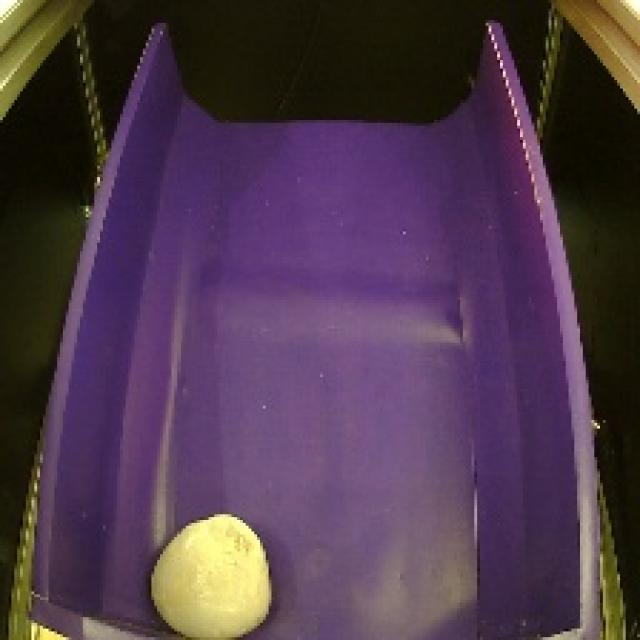cobbles: (136, 503, 283, 640)
